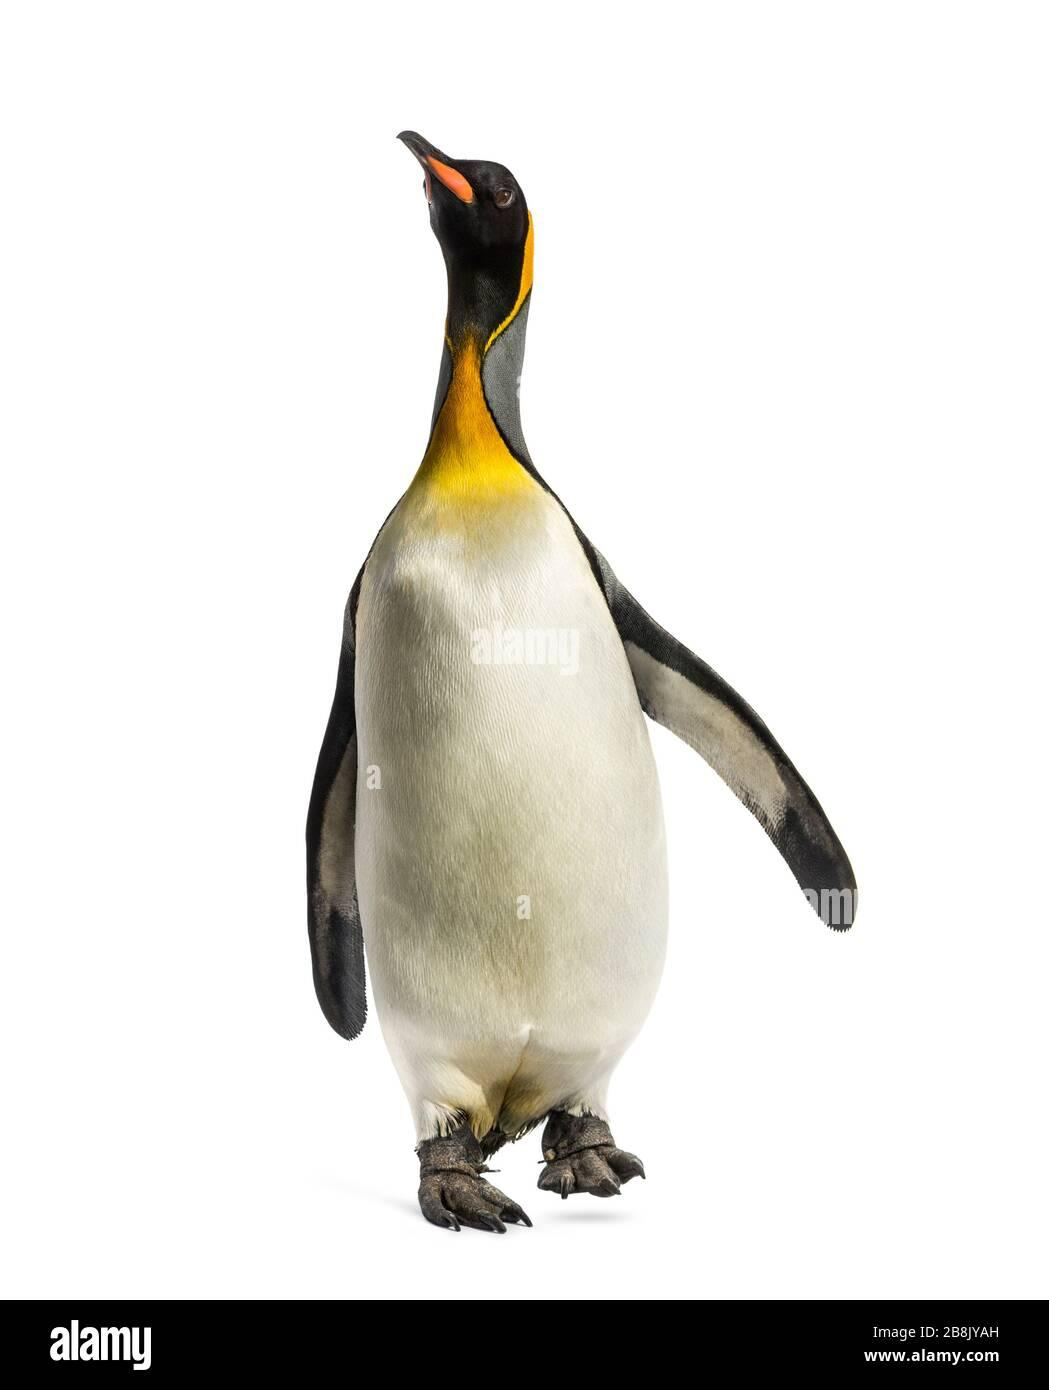king: (274, 94, 845, 1292)
